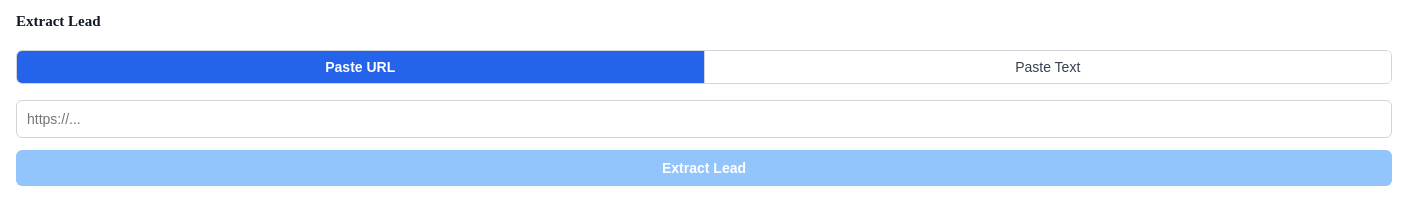
InputPanel › submit button enables once input has a value
This screenshot has width=1409, height=203.
In the field with placeholder "https://...": (704, 119) x1=16 y1=100 x2=1392 y2=138, type "https://example.com"
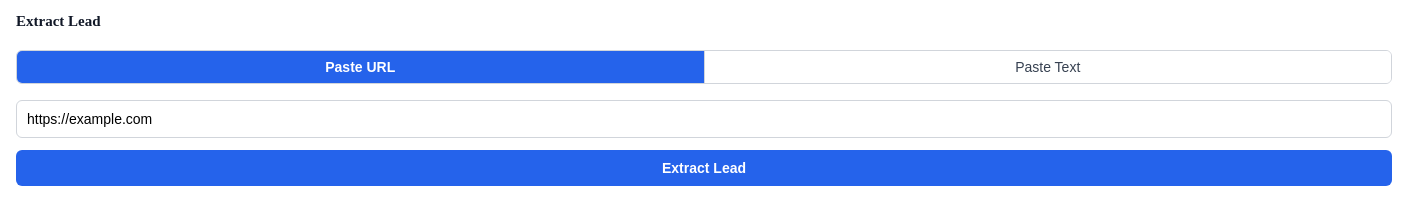
Result: the button "Extract Lead" is enabled at x1=16 y1=150 x2=1392 y2=186
